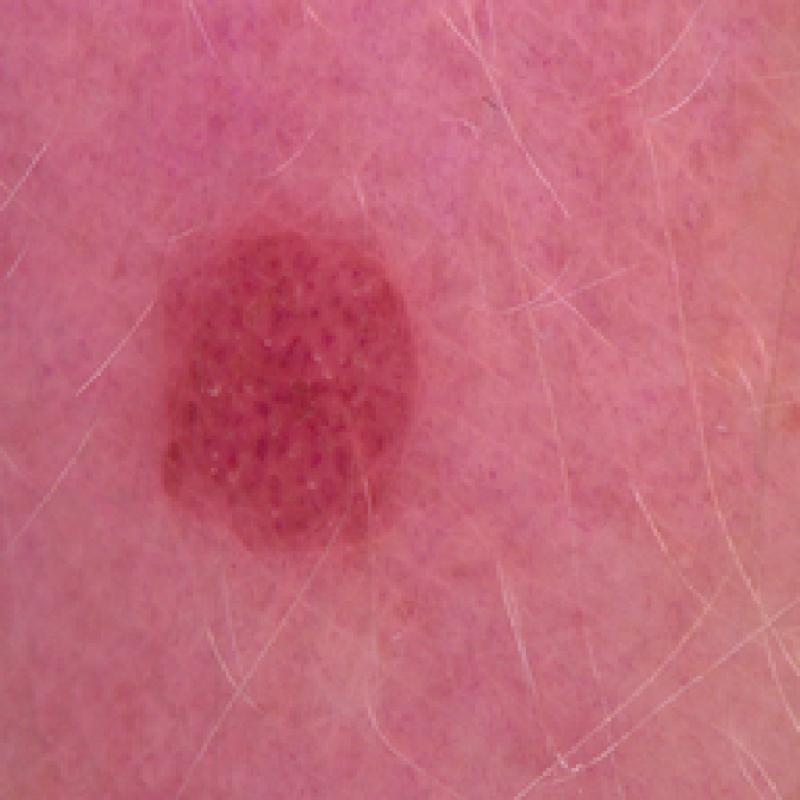benign: (145, 218, 424, 565)
